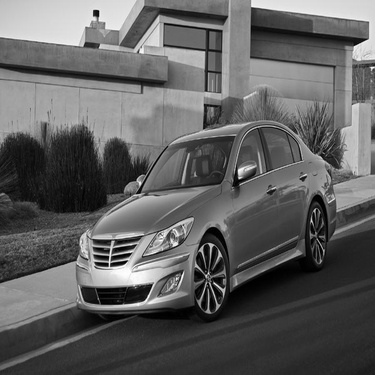car: (72, 111, 341, 334)
